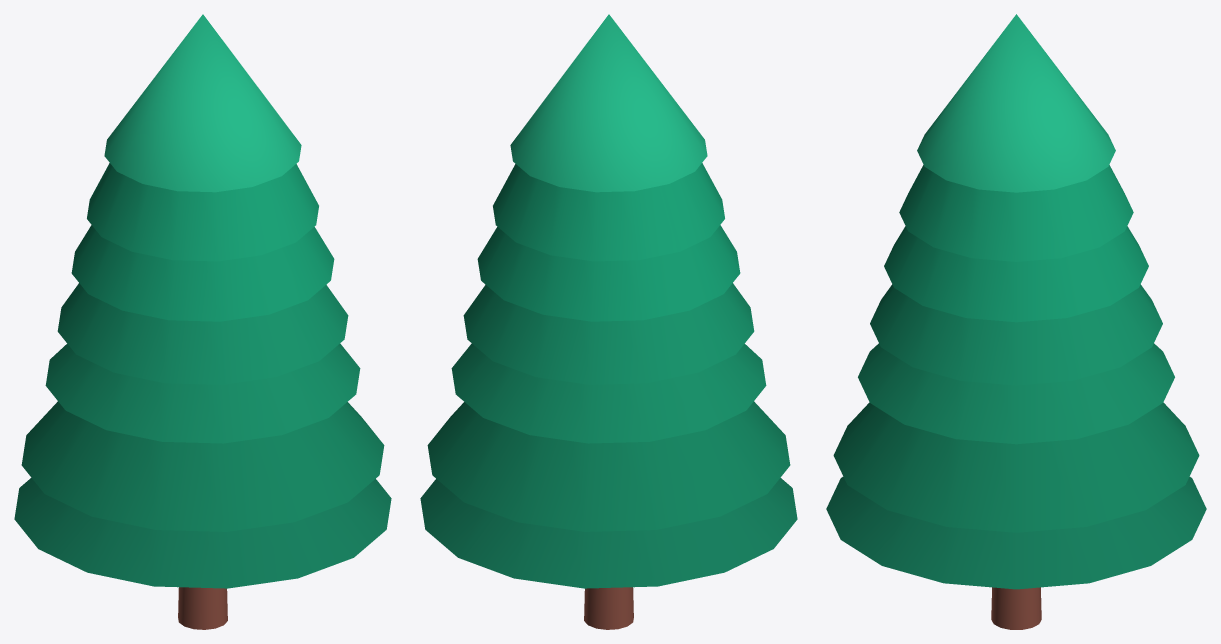
Rendered from Spruce_Cold_Turquoise_Thick_2.fbx.
3 views of the same model, side by side, from view 1: azimuth 30°, elevation 25°; view 2: azimuth 150°, elevation 25°; view 3: azimuth 270°, elevation 25° (orthographic).
Visible parts, largest first — view 1: Cylinder.191, Cylinder.190, Cylinder.192, Cylinder.193, Cylinder.195, Cylinder.194, Cylinder.188, Cylinder.189; view 2: Cylinder.191, Cylinder.190, Cylinder.192, Cylinder.193, Cylinder.195, Cylinder.194, Cylinder.188, Cylinder.189; view 3: Cylinder.191, Cylinder.190, Cylinder.192, Cylinder.193, Cylinder.195, Cylinder.194, Cylinder.188, Cylinder.189.
Boxes of the visible parts, x1,y1,x2,y2 form: Cylinder.191: (21, 401, 384, 531); Cylinder.190: (14, 478, 391, 588); Cylinder.192: (104, 14, 301, 192); Cylinder.193: (45, 343, 360, 443); Cylinder.195: (57, 283, 348, 384); Cylinder.194: (71, 225, 334, 321); Cylinder.188: (87, 163, 318, 261); Cylinder.189: (178, 587, 227, 629); Cylinder.191: (427, 401, 790, 531); Cylinder.190: (420, 478, 797, 588); Cylinder.192: (510, 14, 707, 192); Cylinder.193: (451, 343, 766, 443); Cylinder.195: (463, 283, 754, 384); Cylinder.194: (477, 225, 740, 321); Cylinder.188: (493, 163, 724, 261); Cylinder.189: (584, 587, 633, 629); Cylinder.191: (833, 402, 1199, 532); Cylinder.190: (826, 476, 1206, 589); Cylinder.192: (917, 14, 1115, 192); Cylinder.193: (858, 343, 1174, 444); Cylinder.195: (870, 284, 1162, 385); Cylinder.194: (884, 226, 1148, 322); Cylinder.188: (899, 165, 1133, 261); Cylinder.189: (991, 587, 1041, 629).
Bounding box in the file's own units: 349 × 612 × 349.
